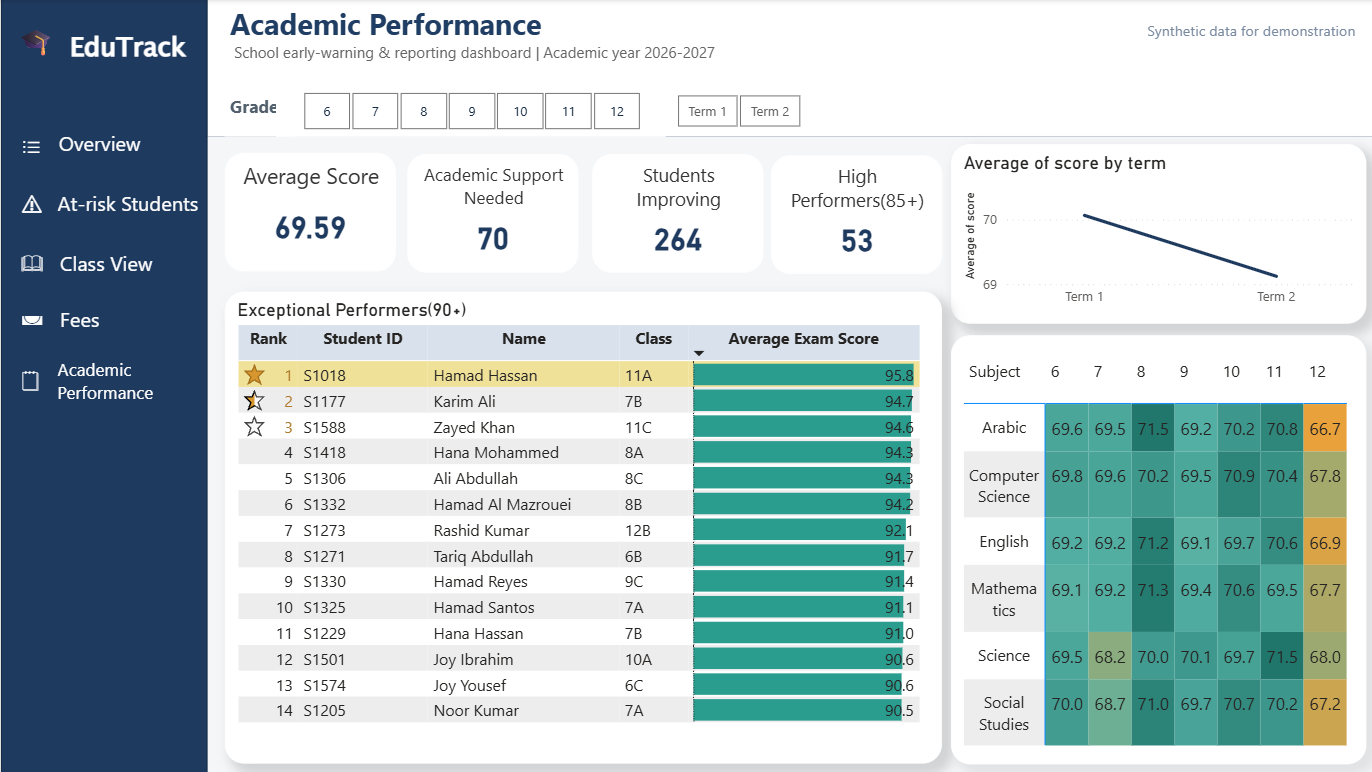

The page's visual inventory and layout, read from the dashboard file:
{"tool":"powerbi","page":{"name":"Academic performance","canvas":[1280,720],"ordinal":7},"visuals":[{"type":"shape","box":[192,0,1088,128],"z":0},{"type":"textbox","box":[58.8,22.5,137.5,52.5],"z":0,"group":"g4"},{"type":"textbox","box":[48.8,116.2,112.5,40],"z":0,"group":"g3"},{"type":"textbox","box":[47.6,172.5,187.5,38.8],"z":0,"group":"g1"},{"type":"textbox","box":[50.1,227.8,150,38.8],"z":0,"group":"g2"},{"type":"textbox","box":[49.8,280,62.5,45],"z":0,"group":"g5"},{"type":"shape","box":[0,0,192,720],"z":1000},{"type":"textbox","box":[8.8,15,58.8,46.2],"z":1000,"group":"g4"},{"type":"textbox","box":[0,122.4,58.8,33.8],"z":1000,"group":"g3"},{"type":"textbox","box":[8.8,170,50,52.5],"z":1000,"group":"g1"},{"type":"textbox","box":[12.6,227.8,42.5,43.8],"z":1000,"group":"g2"},{"type":"textbox","box":[12.3,270,53.8,57.5],"z":1000,"group":"g5"},{"type":"group","id":"g1","title":"Group 1","box":[8.8,170,226.2,52.5],"z":2000},{"type":"group","id":"g2","title":"Group 2","box":[12.6,227.8,187.5,43.8],"z":3000},{"type":"group","id":"g3","title":"Group 3","box":[0,116.2,161.2,40],"z":4000},{"type":"group","id":"g4","title":"Group 4","box":[8.8,15,187.5,60],"z":5000},{"type":"group","id":"g5","title":"Group 5","box":[12.3,270,100,57.5],"z":6000},{"type":"textbox","box":[208,0,688,64],"z":7000},{"type":"textbox","box":[208,64,64,64],"z":8000},{"type":"textbox","box":[1061.6,15.3,218.4,36.2],"z":9000},{"type":"actionButton","box":[12,171.7,180.1,39.6],"z":10000},{"type":"actionButton","box":[9.7,221.2,164.2,50.1],"z":11000},{"type":"actionButton","box":[12.5,279.7,161.4,40.3],"z":12000},{"type":"slicer","fields":{"Values":["view_student_warning.grade"]},"box":[255.8,80.5,362.6,48],"z":13000},{"type":"slicer","fields":{"Values":["fees.term"]},"box":[603.5,82.6,164,43],"z":14000},{"type":"card","title":"Average Score","fields":{"Values":["Avg(exam_results.score)"]},"box":[208.1,143,159,110],"z":15000},{"type":"card","title":"Academic Support Needed","fields":{"Values":["view_student_warning.Academic Support Students"]},"box":[377.9,144.2,159.3,110.5],"z":16000},{"type":"lineChart","fields":{"Category":["exam_results.term"],"Y":["Avg(exam_results.score)"]},"box":[883.7,134.9,386,167.4],"z":17000},{"type":"card","title":"Students Improving","fields":{"Values":["view_student_warning.Students with improving scores"]},"box":[550,144.2,159.3,110.5],"z":18000},{"type":"card","title":"High Performers(85+)","fields":{"Values":["view_student_warning.High performers"]},"box":[716.3,145.3,159.3,110.5],"z":19000},{"type":"tableEx","title":"Exceptional Performers(90+)","fields":{"Values":["exam_results.rank","students.student_id","students.name","students.class","exam_results.Average Exam Score"]},"box":[208.1,272.1,667.4,439.5],"z":20000},{"type":"pivotTable","fields":{"Rows":["exam_results.subject"],"Columns":["students.grade"],"Values":["exam_results.Average Exam Score"]},"box":[883.7,312.8,386,398.8],"z":21000},{"type":"group","id":"g6","title":"Group 6","box":[11.6,327.9,168.6,57],"z":22000},{"type":"textbox","box":[11.6,333.7,38.4,46.5],"z":22000,"group":"g6"},{"type":"textbox","box":[47.6,327.9,132.6,57],"z":23000,"group":"g6"},{"type":"actionButton","box":[14,337.2,147.7,39.5],"z":23000},{"type":"actionButton","box":[13.9,116.9,165.6,40.3],"z":24000}]}

Visuals, with their boxes on the page's 1280x720 design canvas (x1, y1, x2, y2). These are canvas units, not pixel positions in the 1372x772 screenshot, which may show the page scaled, cropped or inside an application window:
shape: bbox=(192, 0, 1280, 128)
textbox: bbox=(59, 22, 196, 75)
textbox: bbox=(49, 116, 161, 156)
textbox: bbox=(48, 172, 235, 211)
textbox: bbox=(50, 228, 200, 267)
textbox: bbox=(50, 280, 112, 325)
shape: bbox=(0, 0, 192, 720)
textbox: bbox=(9, 15, 68, 61)
textbox: bbox=(0, 122, 59, 156)
textbox: bbox=(9, 170, 59, 222)
textbox: bbox=(13, 228, 55, 272)
textbox: bbox=(12, 270, 66, 328)
"Group 1" group: bbox=(9, 170, 235, 222)
"Group 2" group: bbox=(13, 228, 200, 272)
"Group 3" group: bbox=(0, 116, 161, 156)
"Group 4" group: bbox=(9, 15, 196, 75)
"Group 5" group: bbox=(12, 270, 112, 328)
textbox: bbox=(208, 0, 896, 64)
textbox: bbox=(208, 64, 272, 128)
textbox: bbox=(1062, 15, 1280, 52)
actionButton: bbox=(12, 172, 192, 211)
actionButton: bbox=(10, 221, 174, 271)
actionButton: bbox=(12, 280, 174, 320)
slicer - view_student_warning.grade: bbox=(256, 80, 618, 128)
slicer - fees.term: bbox=(604, 83, 768, 126)
"Average Score" card: bbox=(208, 143, 367, 253)
"Academic Support Needed" card: bbox=(378, 144, 537, 255)
lineChart - exam_results.term x Avg(exam_results.score): bbox=(884, 135, 1270, 302)
"Students Improving" card: bbox=(550, 144, 709, 255)
"High Performers(85+)" card: bbox=(716, 145, 876, 256)
"Exceptional Performers(90+)" tableEx: bbox=(208, 272, 876, 712)
pivotTable - exam_results.subject x students.grade: bbox=(884, 313, 1270, 712)
"Group 6" group: bbox=(12, 328, 180, 385)
textbox: bbox=(12, 334, 50, 380)
textbox: bbox=(48, 328, 180, 385)
actionButton: bbox=(14, 337, 162, 377)
actionButton: bbox=(14, 117, 180, 157)
